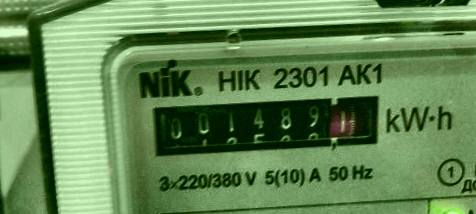0: (193, 108, 211, 134), (167, 114, 183, 140)
1: (222, 105, 238, 135), (334, 103, 348, 134)
4: (249, 104, 267, 131)
8: (275, 102, 294, 130)
9: (304, 102, 321, 128)
screen: (136, 79, 397, 173)
